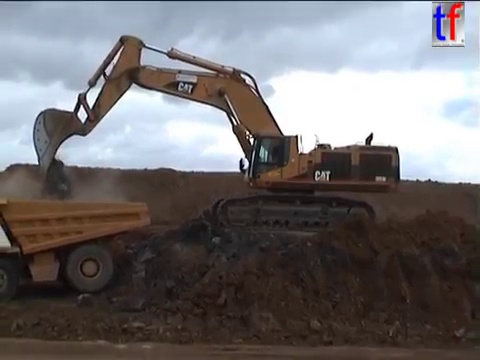excavator: (29, 32, 403, 236)
truck: (1, 195, 151, 302)
